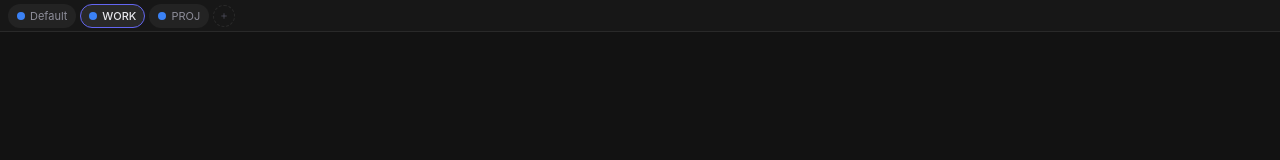
WorkspaceSwitcher › creating › closes the form on Escape without creating
The image size is (1280, 160).
Click the button named "Create workspace". click: (224, 16)
box: [213,4,235,26]
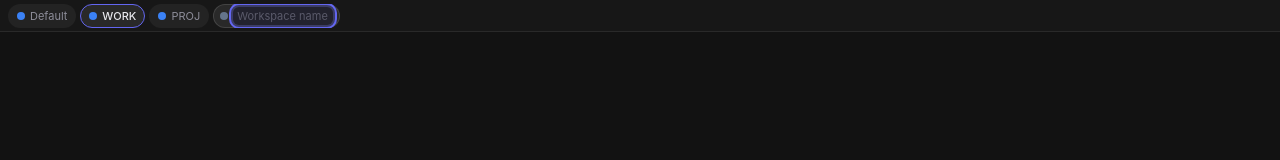
Type "Research" into the field with placeholder "Workspace name". click: (283, 16)
box: [233,6,333,24]
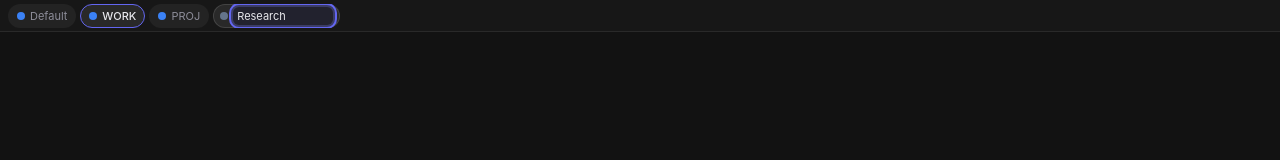
Press Escape
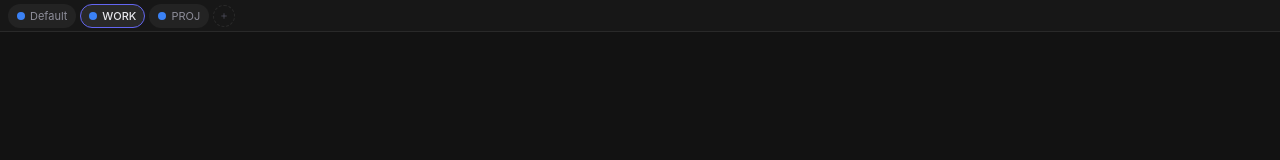
Now the button named "Create workspace" is shown, box [213,4,235,26]
